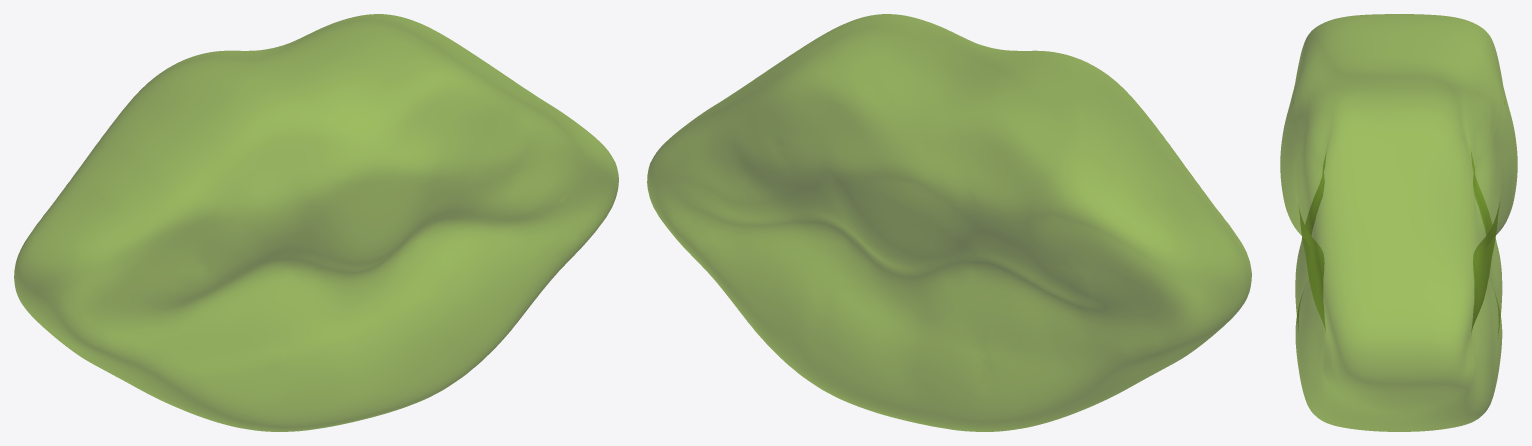
File: tz-boca-maca-verde.glb
3 views of the same model, side by side, from view 1: azimuth 30°, elevation 25°; view 2: azimuth 150°, elevation 25°; view 3: azimuth 270°, elevation 25° (orthographic). The views are drawn at different scales.
Parts seen in each view (by area): view 1: Lábios.005; view 2: Lábios.005; view 3: Lábios.005.
Part boxes in pixels (<box>): Lábios.005: <box>14,14,618,431</box>; Lábios.005: <box>647,14,1251,431</box>; Lábios.005: <box>1280,14,1517,431</box>.
Size of the model in its own units: 0.9975 by 0.5845 by 0.3761.
